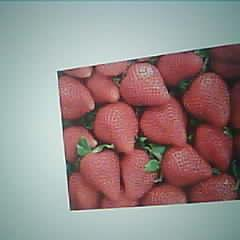straw-ripe: (183, 73, 229, 125), (141, 97, 186, 146), (94, 102, 138, 152), (120, 64, 169, 105), (162, 144, 211, 185), (81, 152, 119, 199)
